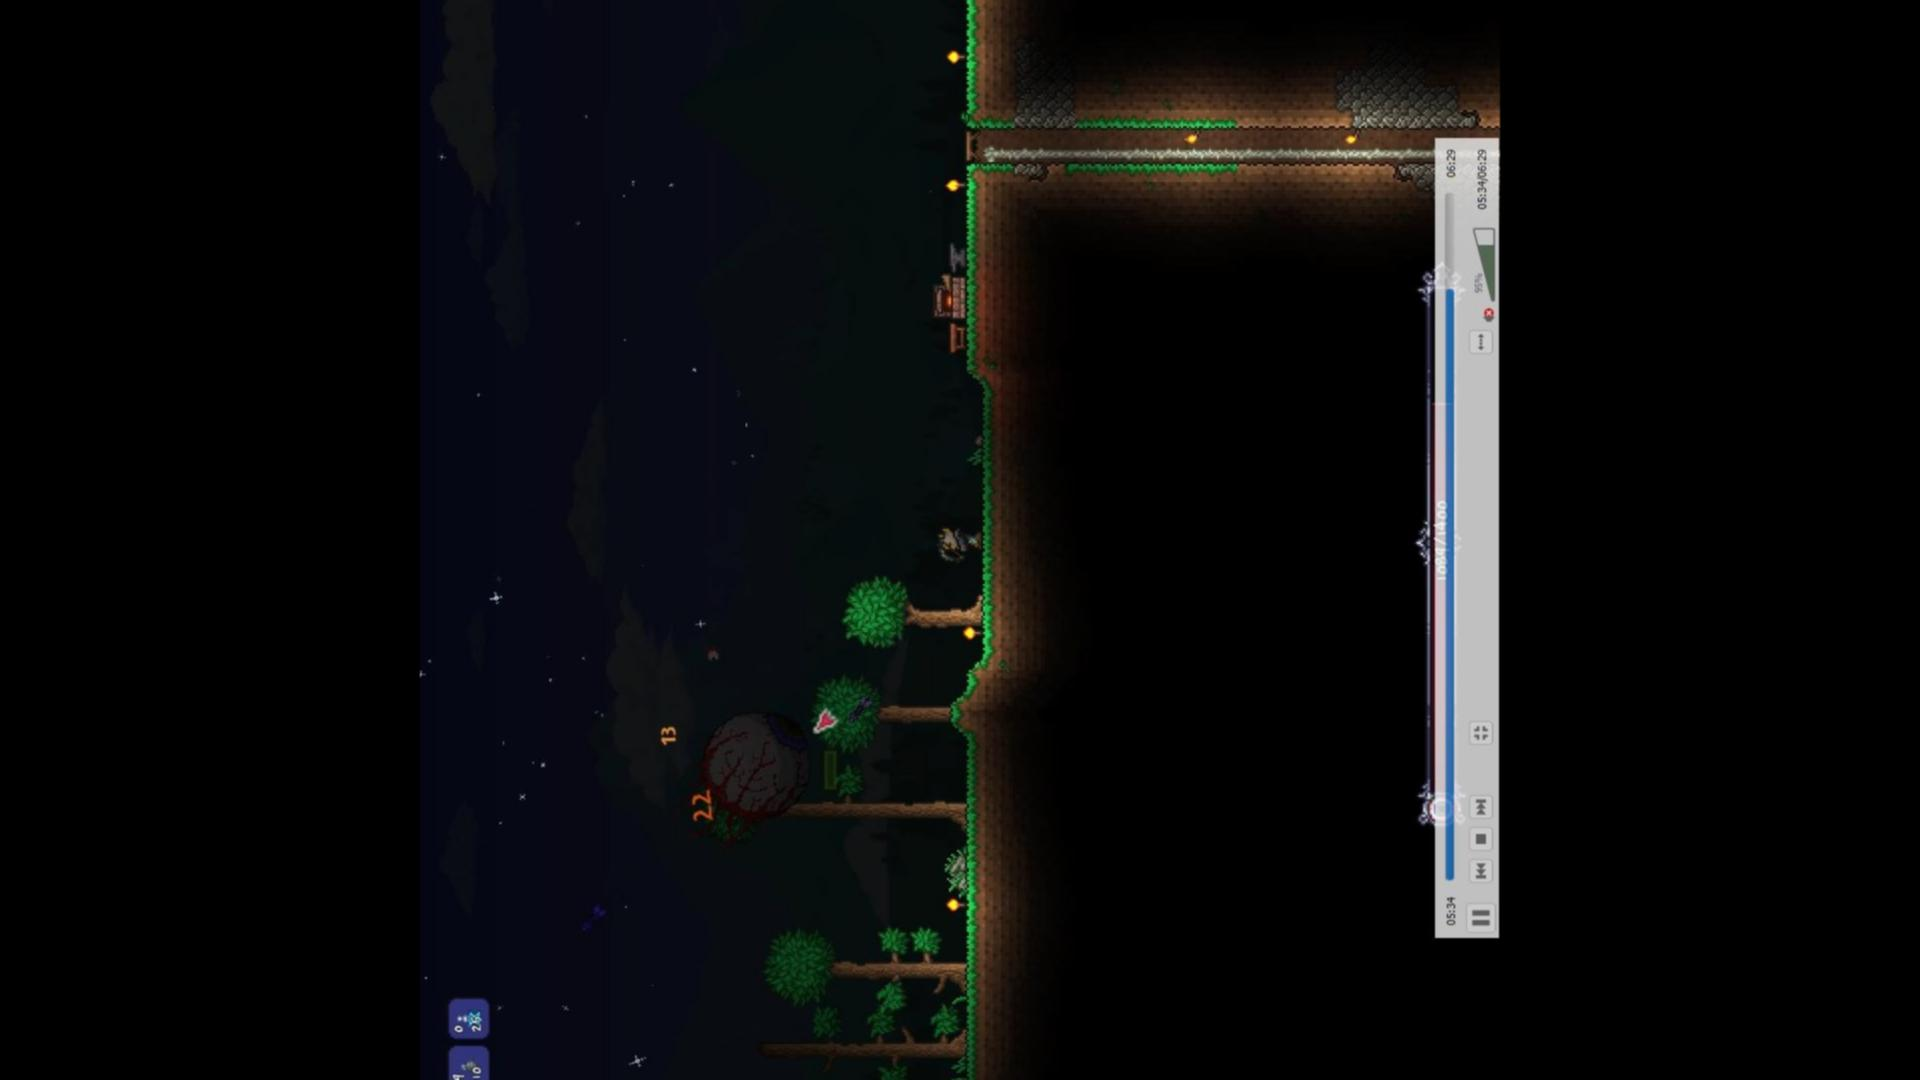anvil: (944, 237, 965, 276)
eyeC: (680, 705, 815, 829)
